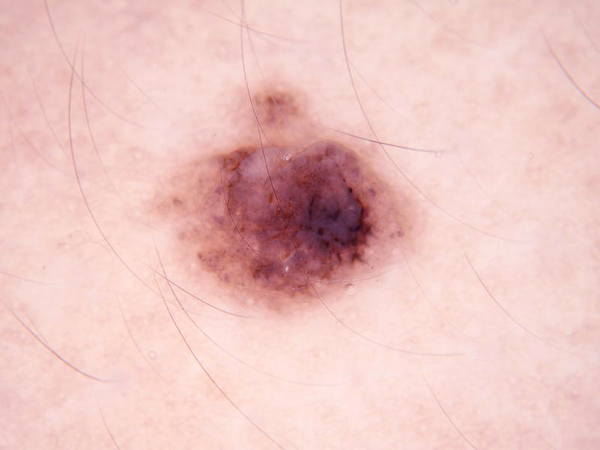Detected Lesion: (152, 80, 409, 313)
